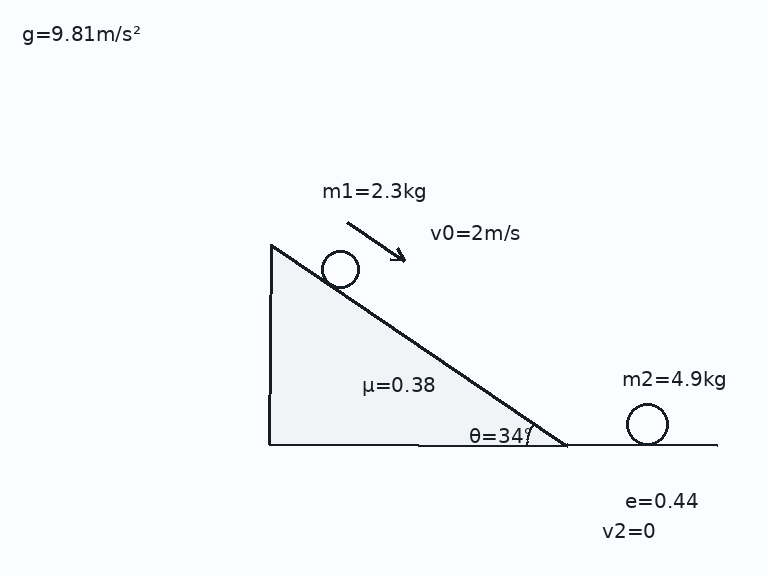ball: (624, 401, 670, 447), (319, 248, 361, 290)
ramp: (268, 243, 569, 447)
